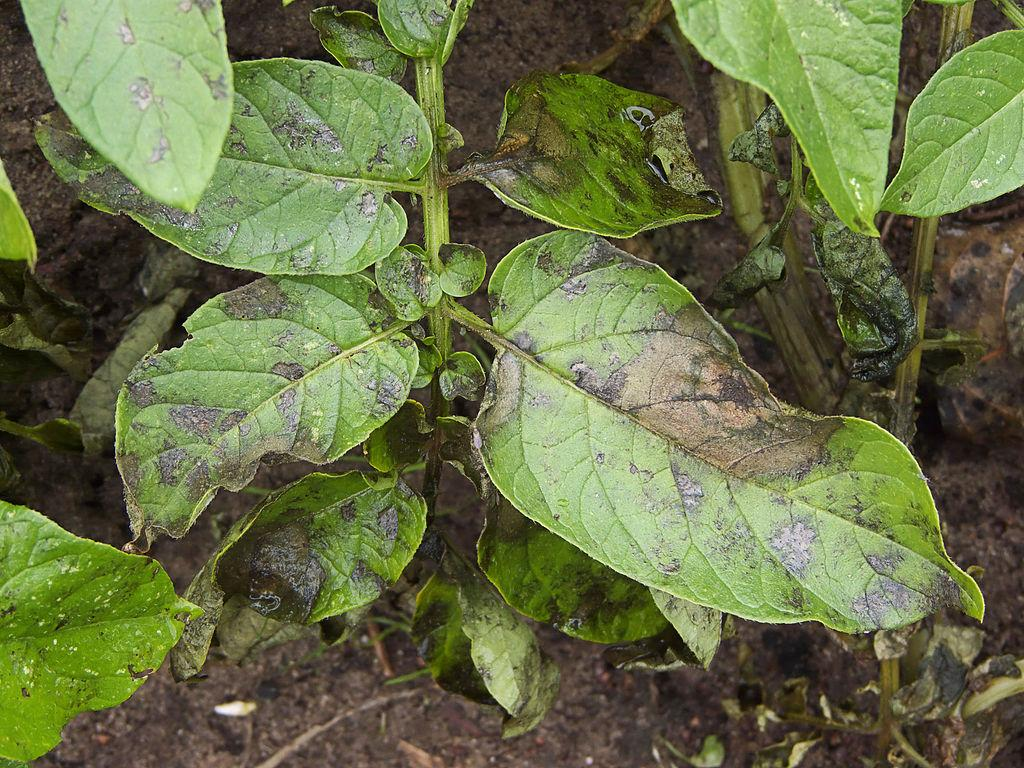Potato leaf late blight: (465, 223, 987, 653), (91, 269, 417, 529), (42, 59, 427, 277), (472, 64, 736, 246), (165, 482, 431, 653), (449, 567, 541, 715), (383, 243, 488, 308)
